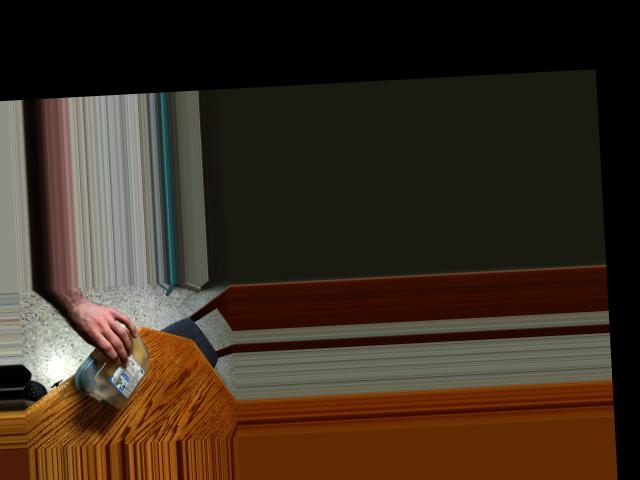cheese: (73, 315, 152, 410)
